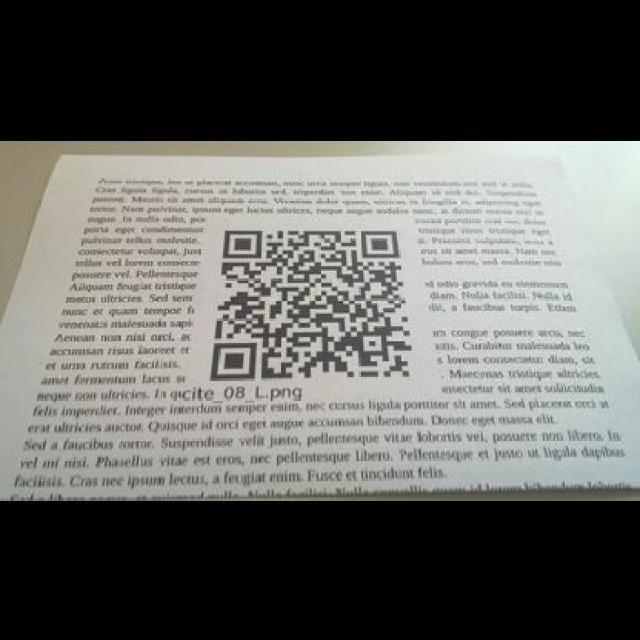QRCode: (211, 216, 415, 388)
